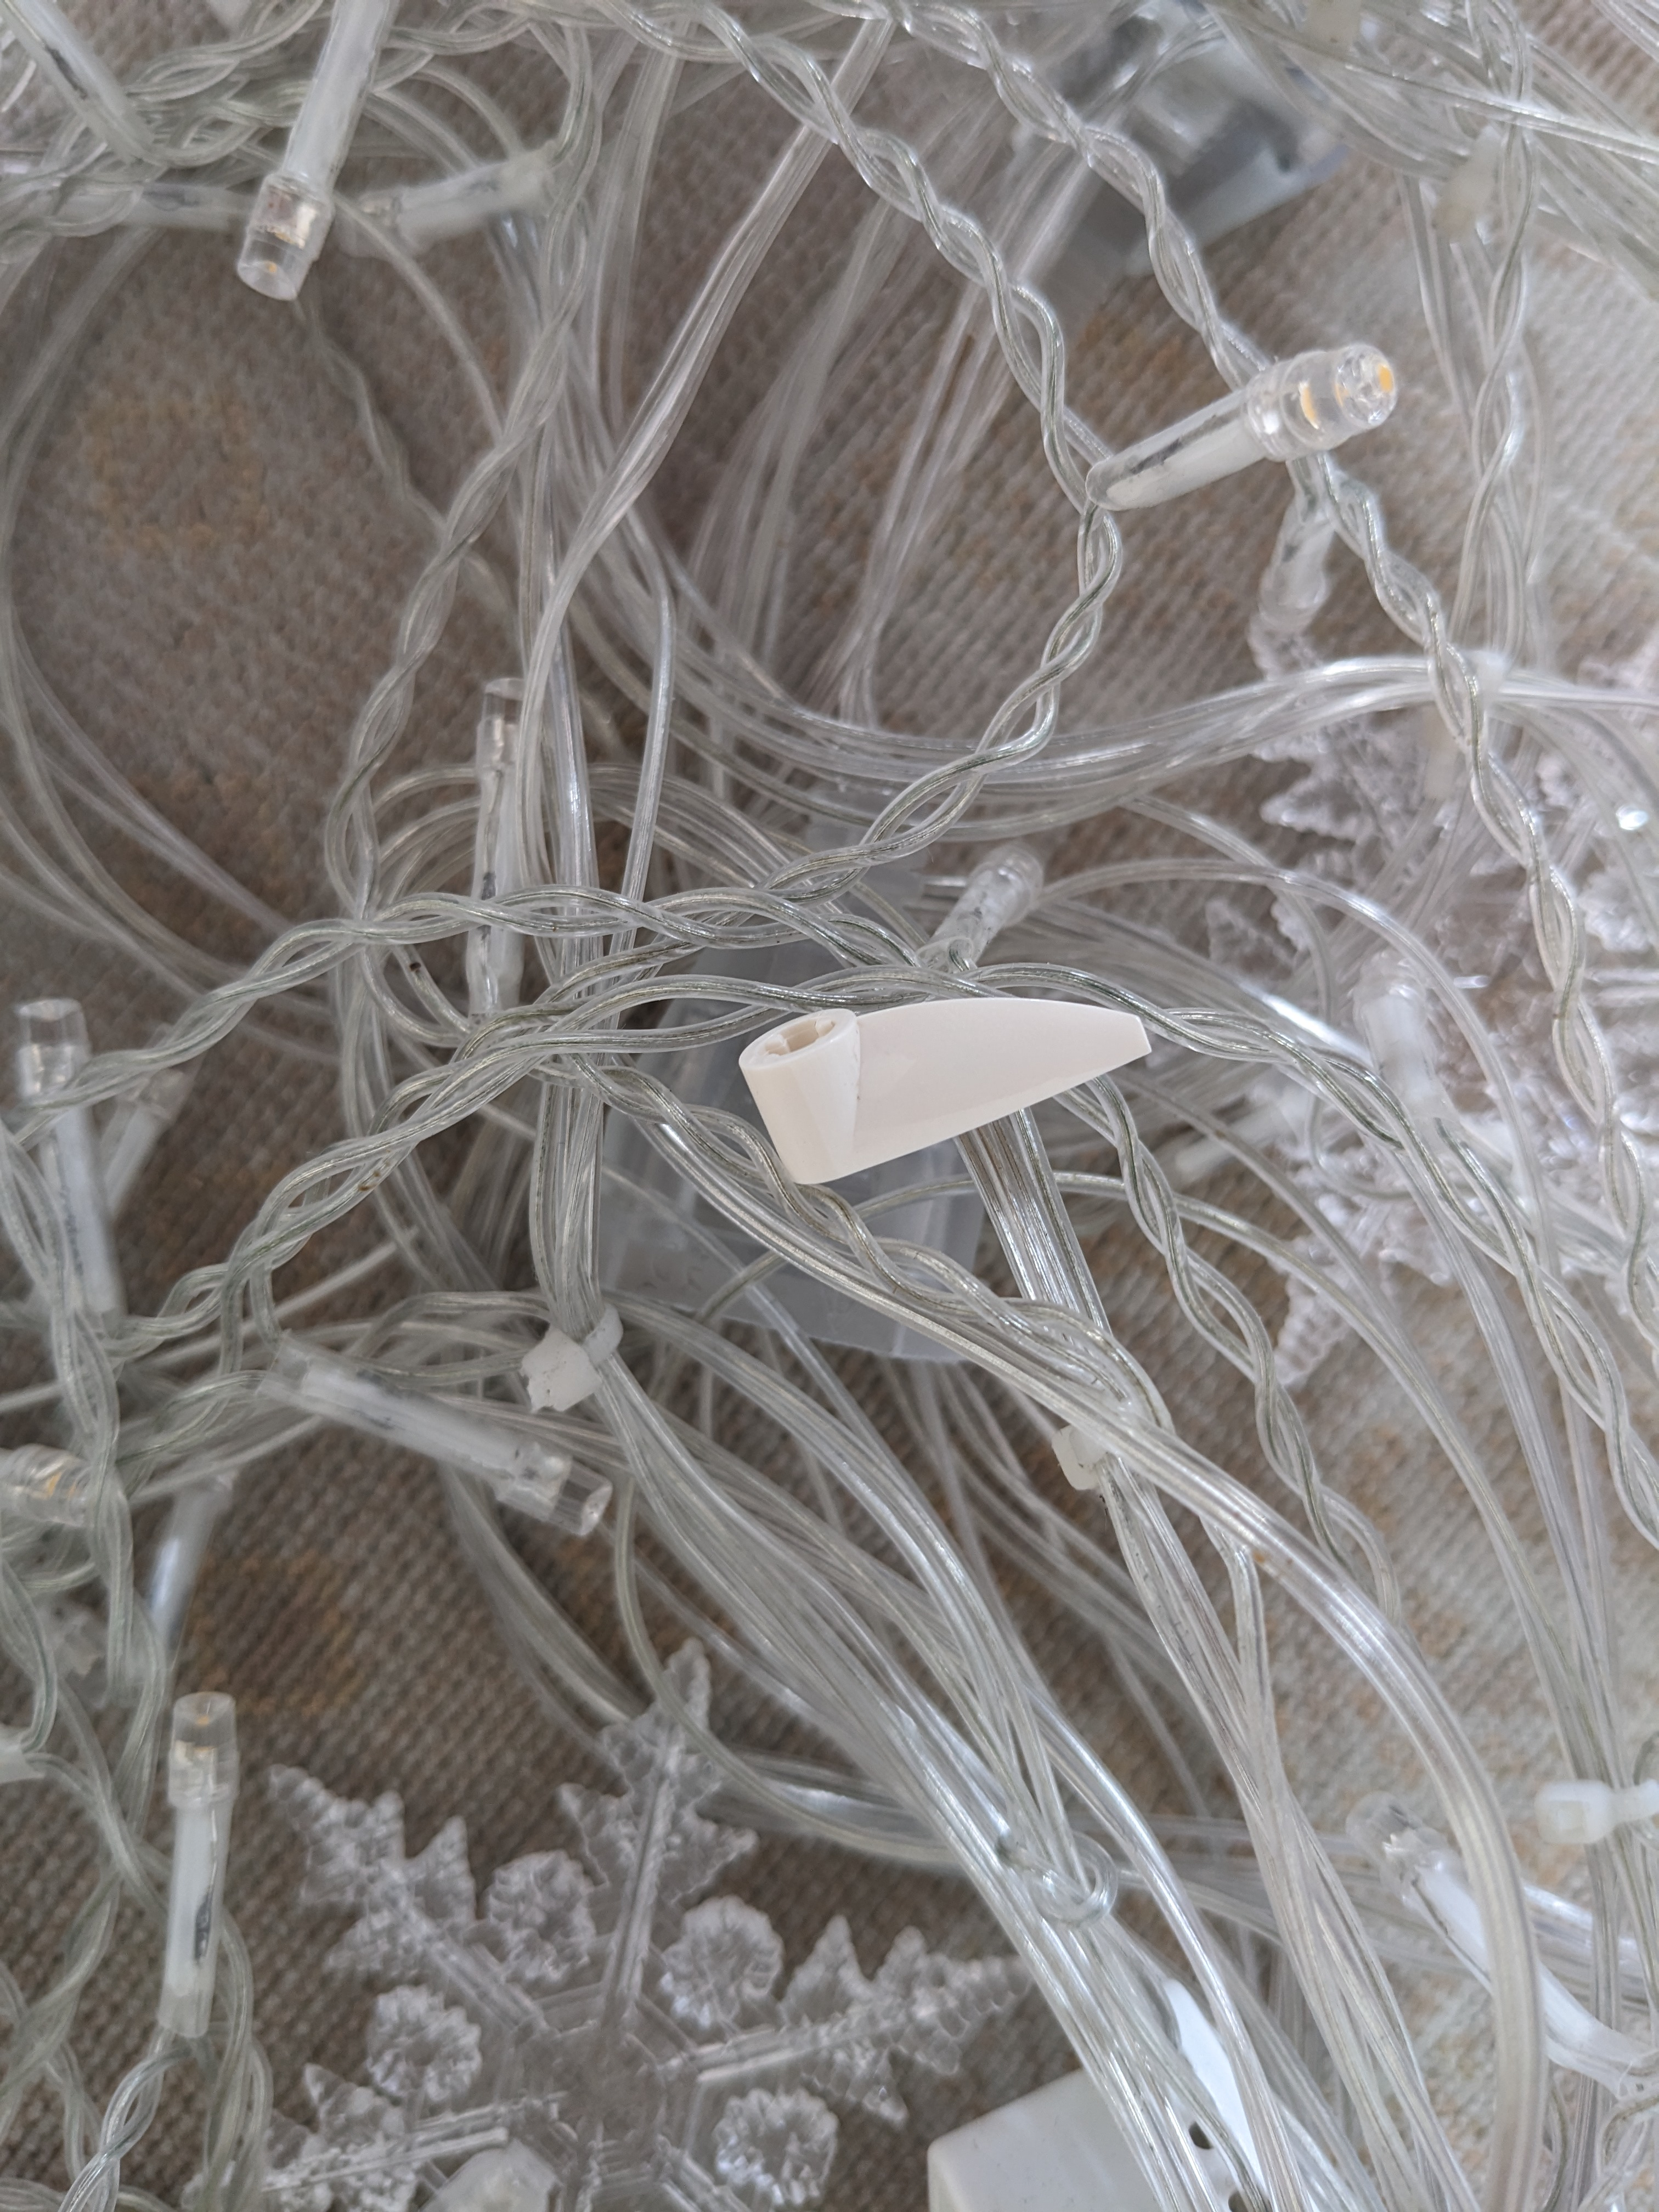Kappe: (730, 970, 1164, 1197)
